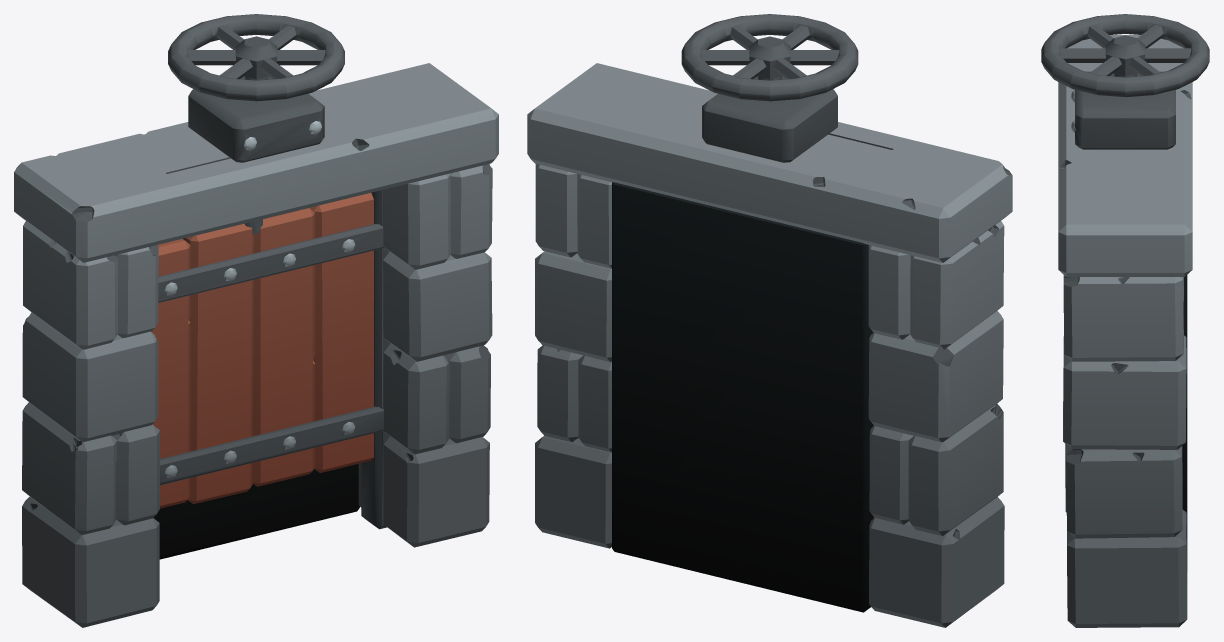
File: sluice_gate.glb
3 views of the same model, side by side, from view 1: azimuth 30°, elevation 25°; view 2: azimuth 150°, elevation 25°; view 3: azimuth 270°, elevation 25° (orthographic). The views are drawn at different scales.
Visible parts, largest first — view 1: sluice_gate; view 2: sluice_gate; view 3: sluice_gate.
Part boxes in pixels (box(x1,y1,x2,y2)): sluice_gate: box(14, 14, 498, 627); sluice_gate: box(527, 14, 1012, 627); sluice_gate: box(1041, 14, 1209, 627).
Size of the model in its own units: 2.86 by 3.35 by 1.03.
1 material, 1 textured.
